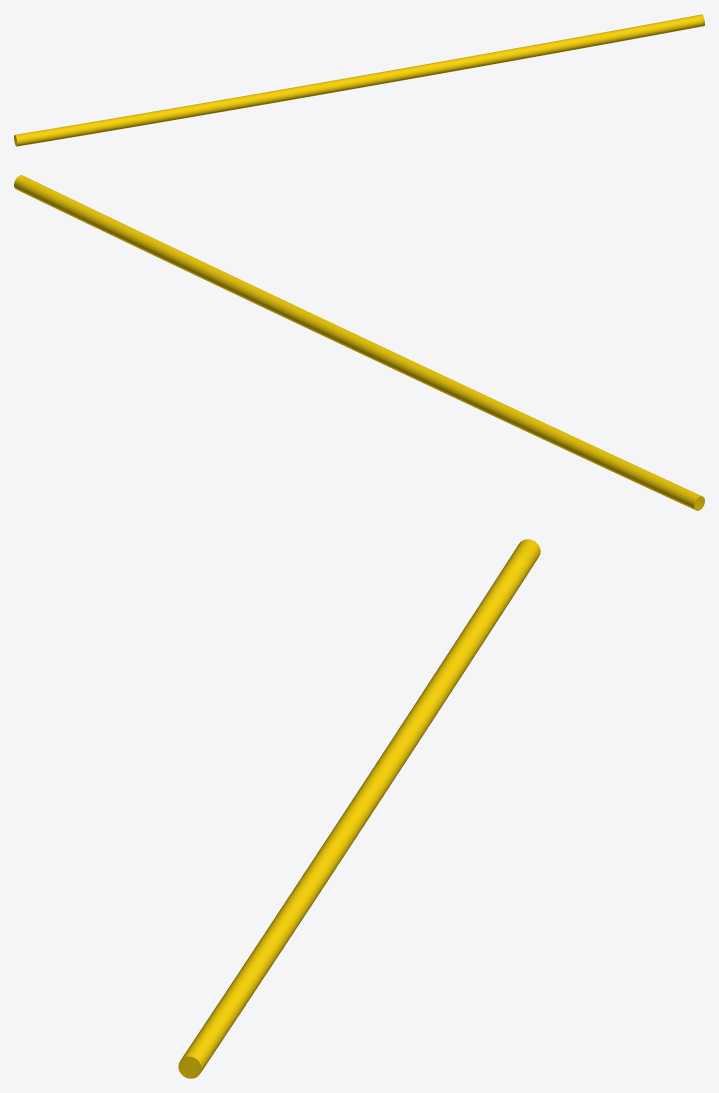
File: Event_421115418_track_23.fbx
The picture shows the model from 3 angles, top to bottom: view 1: azimuth 30°, elevation 25°; view 2: azimuth 150°, elevation 25°; view 3: azimuth 270°, elevation 25°; orthographic projection. The views are drawn at different scales.
Parts seen in each view (by area): view 1: Model; view 2: Model; view 3: Model.
Part boxes in pixels (x1,y1,x2,y2): Model: [14, 14, 704, 146]; Model: [14, 175, 704, 510]; Model: [178, 539, 540, 1078].
Bounding box in the file's own units: 2.34 × 0.1712 × 0.6075.
